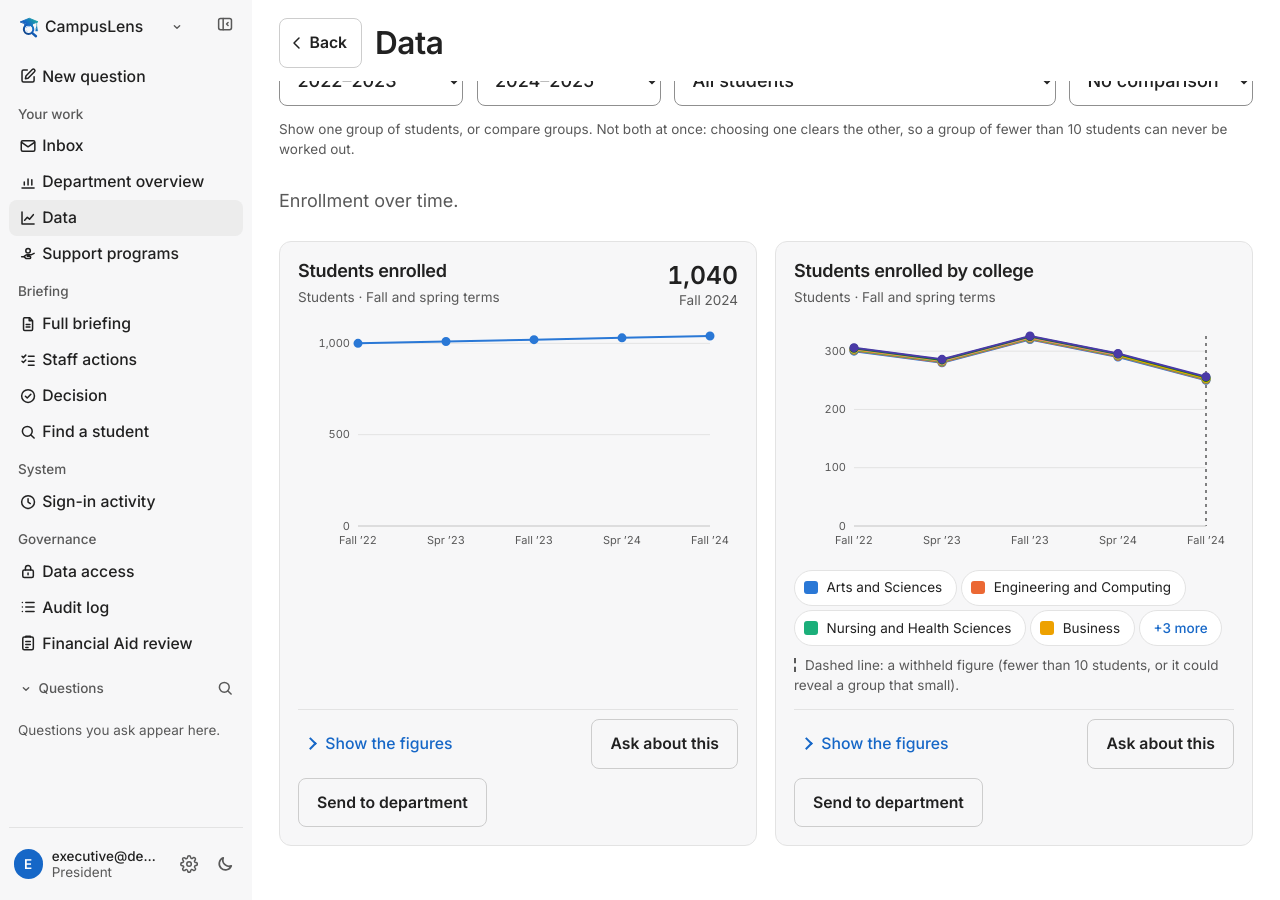
Ask and Send in the app › opens Send alert with the chart attached, offering only people who may read it
(page scrolled)
Check: the picture named "by college" is shown, box [794,324,1234,556]
Click the 1st button "Send to department": (392, 802) [298,778,487,827]
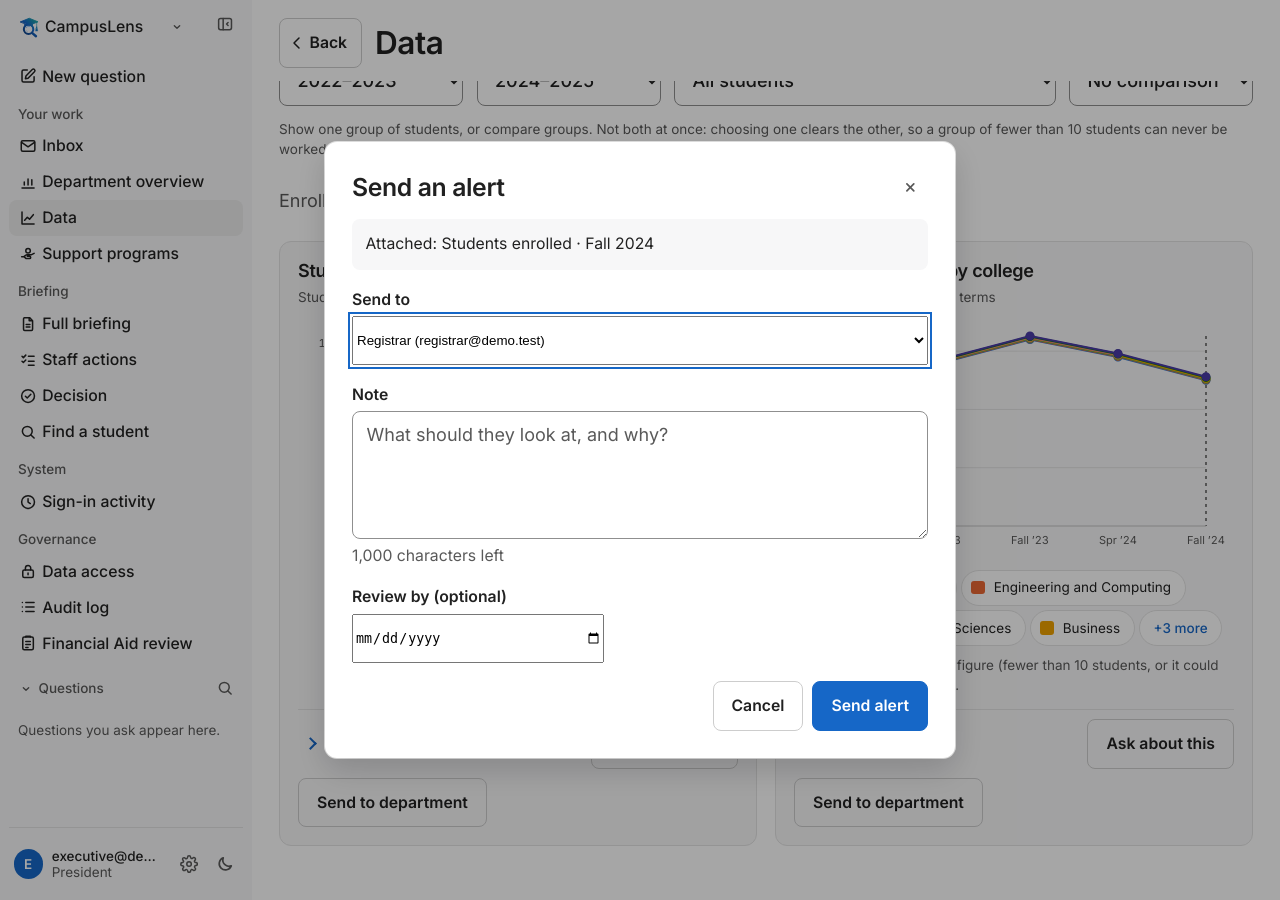
Check: the text "Attached: Students enrolled · Fall 2024" is shown, box [352,219,928,270]
